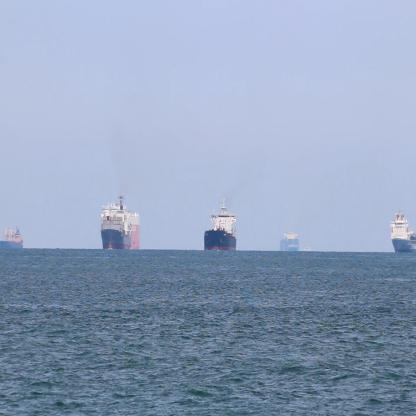Container Ship: (100, 192, 140, 254), (202, 192, 238, 254), (390, 210, 416, 255), (1, 226, 24, 252), (278, 232, 299, 255), (300, 244, 313, 256)
